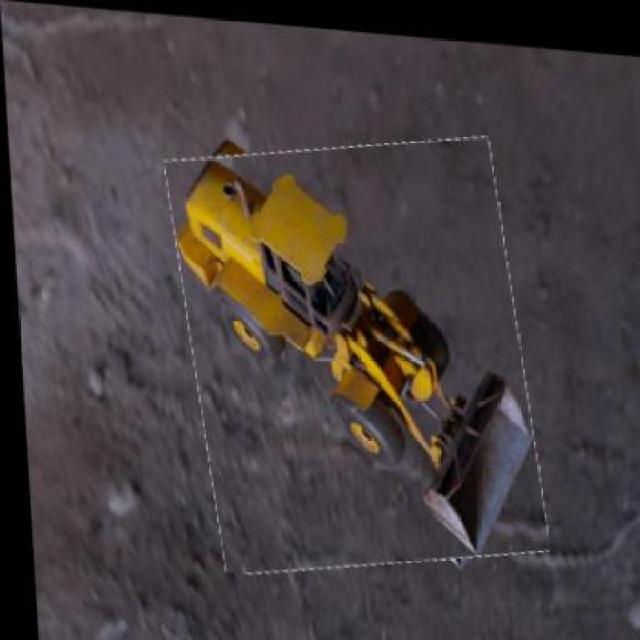buldozerpayloadergrader: (178, 161, 534, 556)
